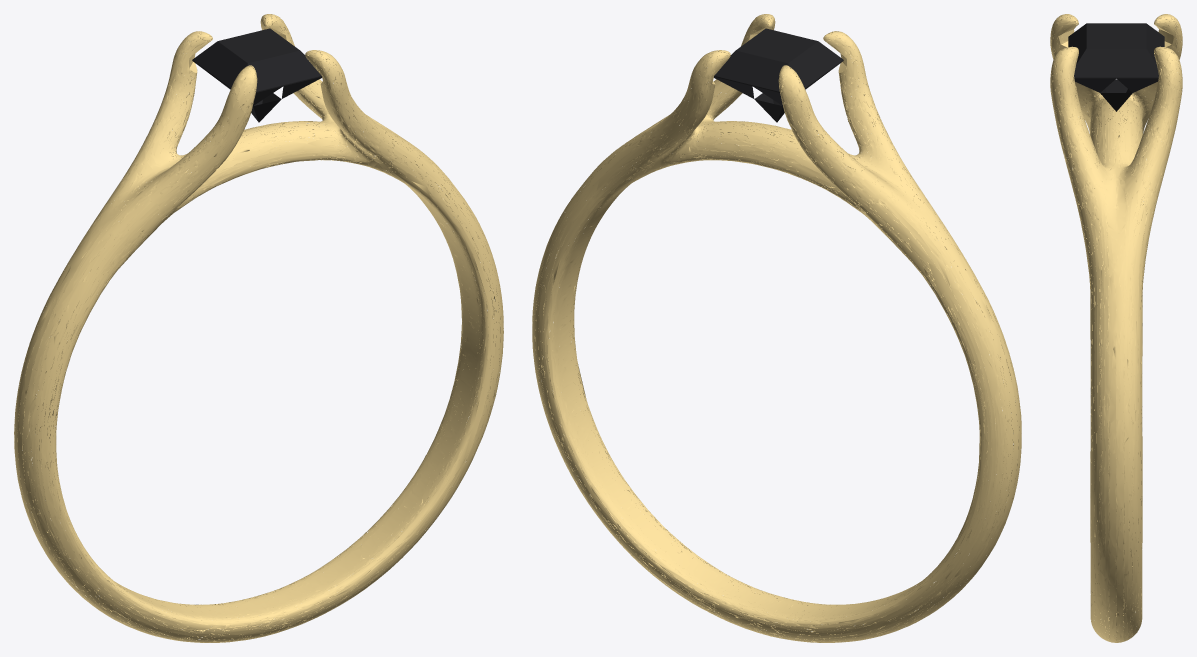
File: ring_princess.glb
3 views of the same model, side by side, from view 1: azimuth 30°, elevation 25°; view 2: azimuth 150°, elevation 25°; view 3: azimuth 270°, elevation 25° (orthographic).
Parts seen in each view (by area): view 1: Band, Diamond; view 2: Band, Diamond; view 3: Band, Diamond.
Part boxes in pixels (x1=…): Band: x1=14, y1=14, x2=503, y2=642; Diamond: x1=192, y1=28, x2=321, y2=122; Band: x1=532, y1=14, x2=1021, y2=642; Diamond: x1=714, y1=28, x2=843, y2=122; Band: x1=1050, y1=14, x2=1182, y2=642; Diamond: x1=1068, y1=23, x2=1164, y2=111.
Size of the model in its own units: 20.18 by 23.68 by 4.86.
